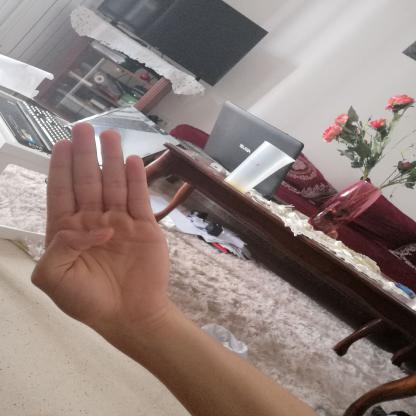KAAF: (20, 111, 187, 338)
